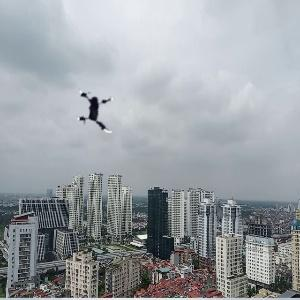drone: (68, 77, 133, 142)
